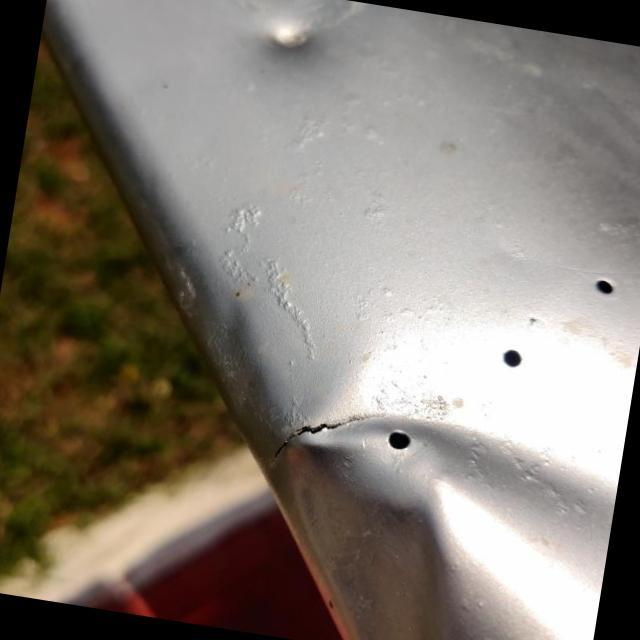Dent: (202, 259, 640, 640), (231, 0, 354, 90)
Rupture: (248, 372, 406, 504)
